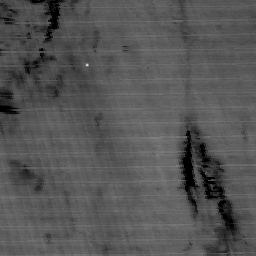Target: (84, 61, 91, 68)
